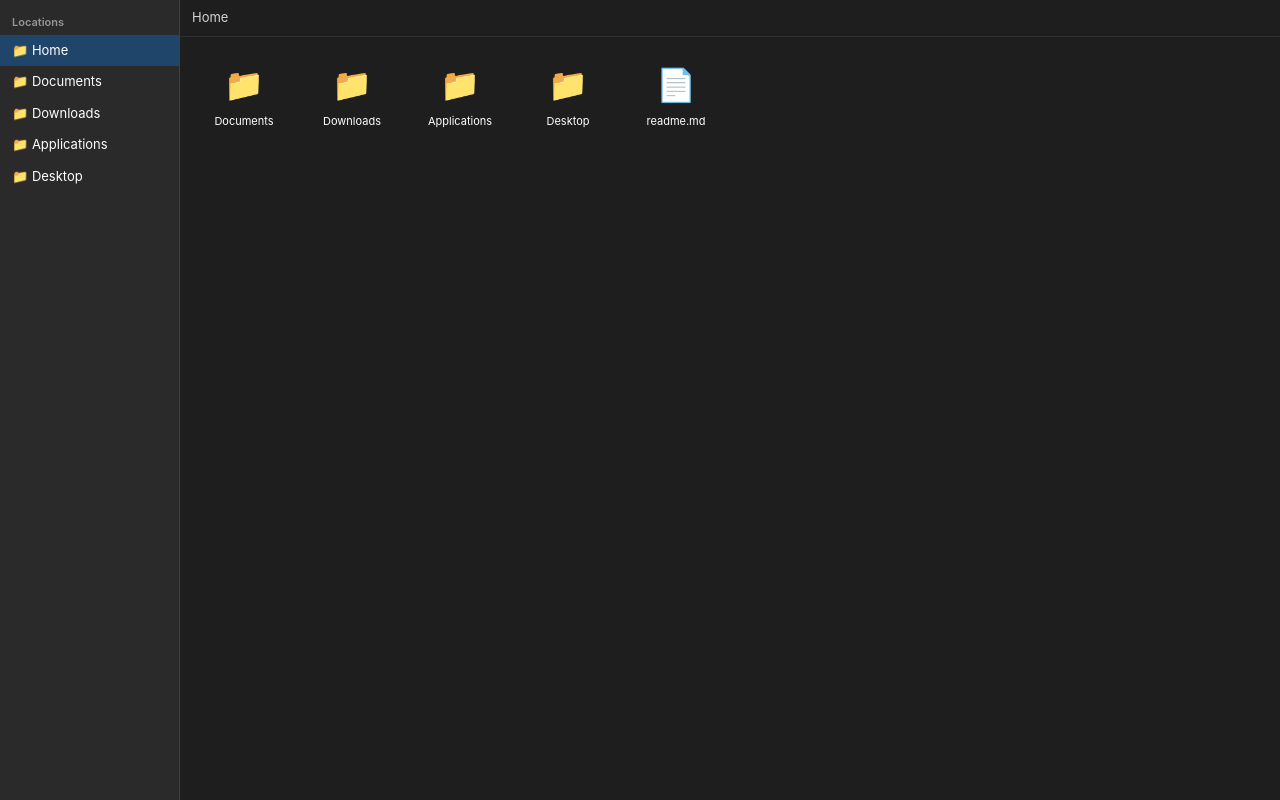
Finder › navigates into Documents via sidebar click
This screenshot has width=1280, height=800.
Click the text with test id "finder-location-documents" at x=57, y=81, box [12,73,102,89]
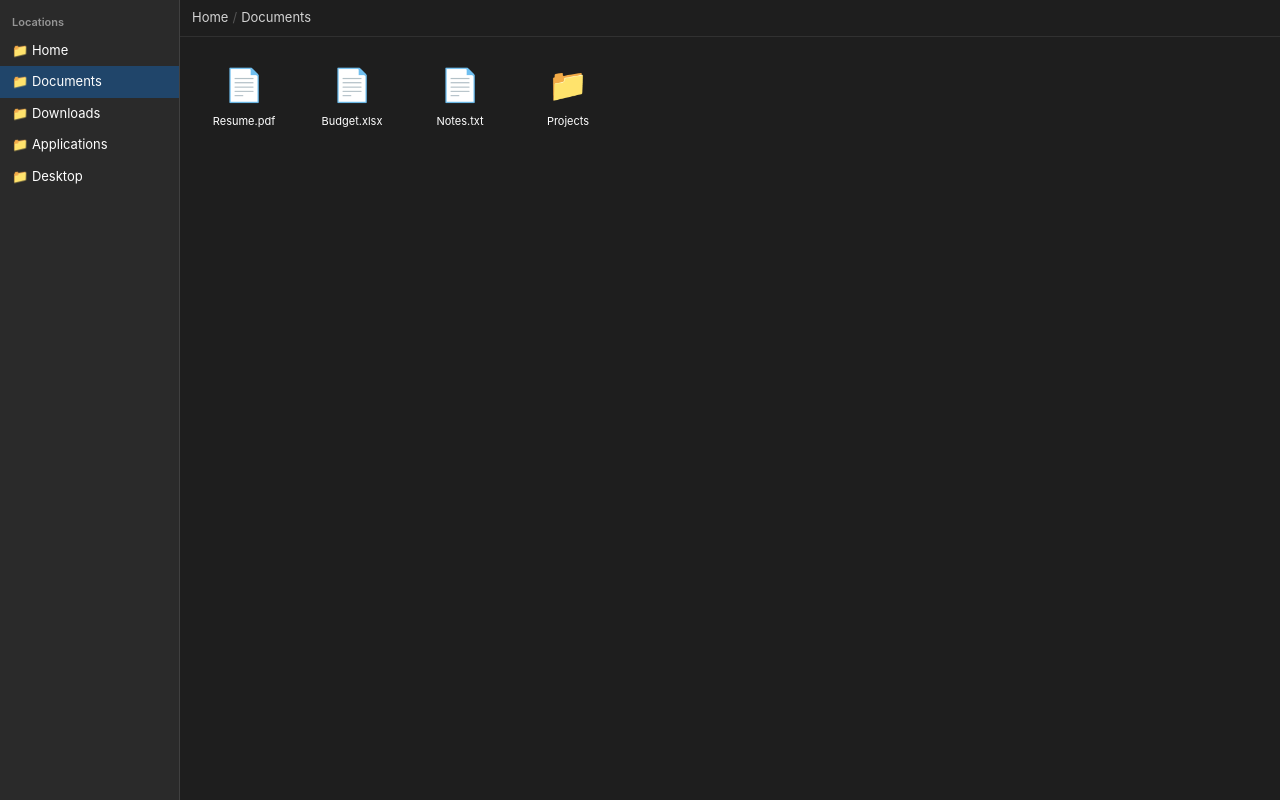
Now the element with test id "finder-item-Resume-pdf" is shown, box [213,64,275,128]
Now the element with test id "finder-item-Notes-txt" is shown, box [436,64,484,128]
